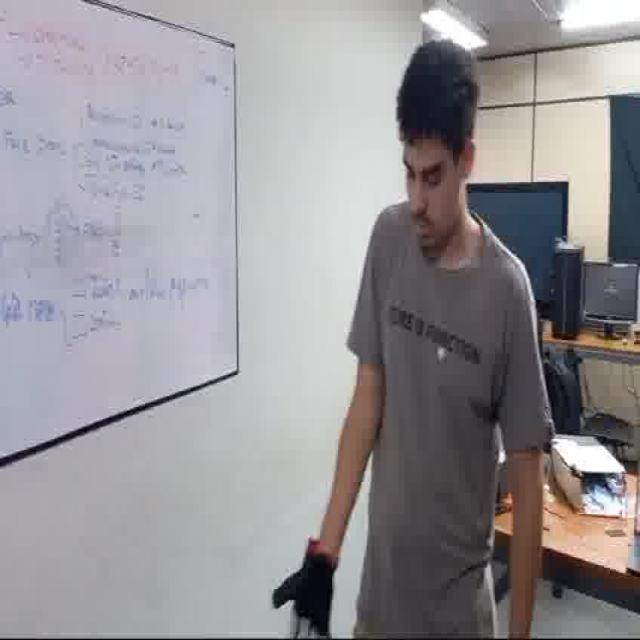Gloves: (274, 541, 344, 640)
